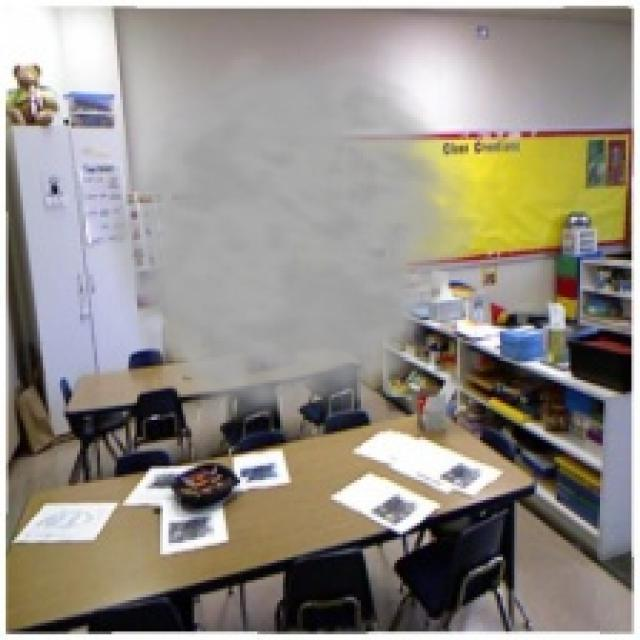Smoke: (92, 48, 497, 440)
